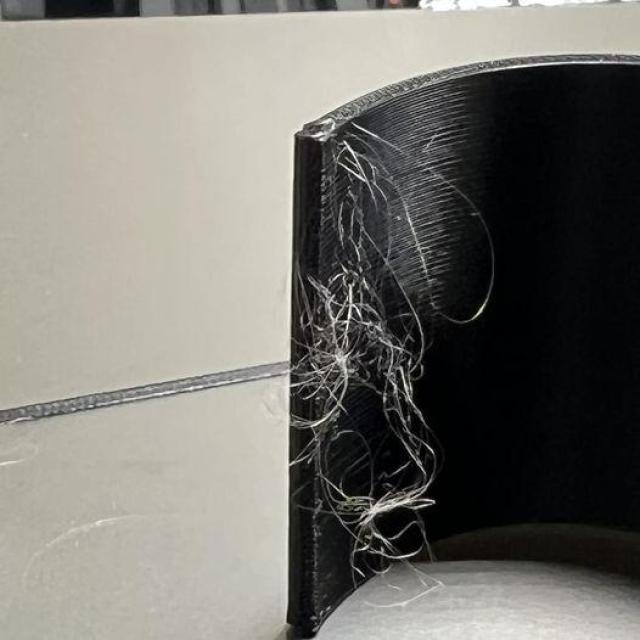stringing: (314, 158, 425, 576)
